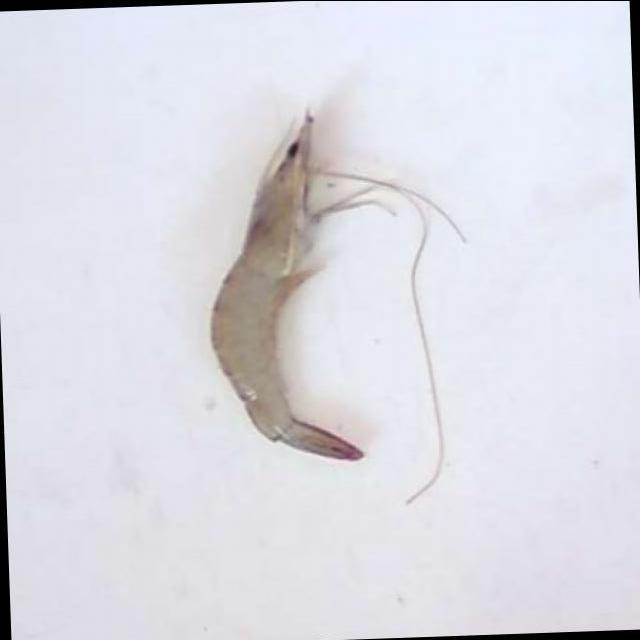shrimp: (211, 114, 362, 460)
